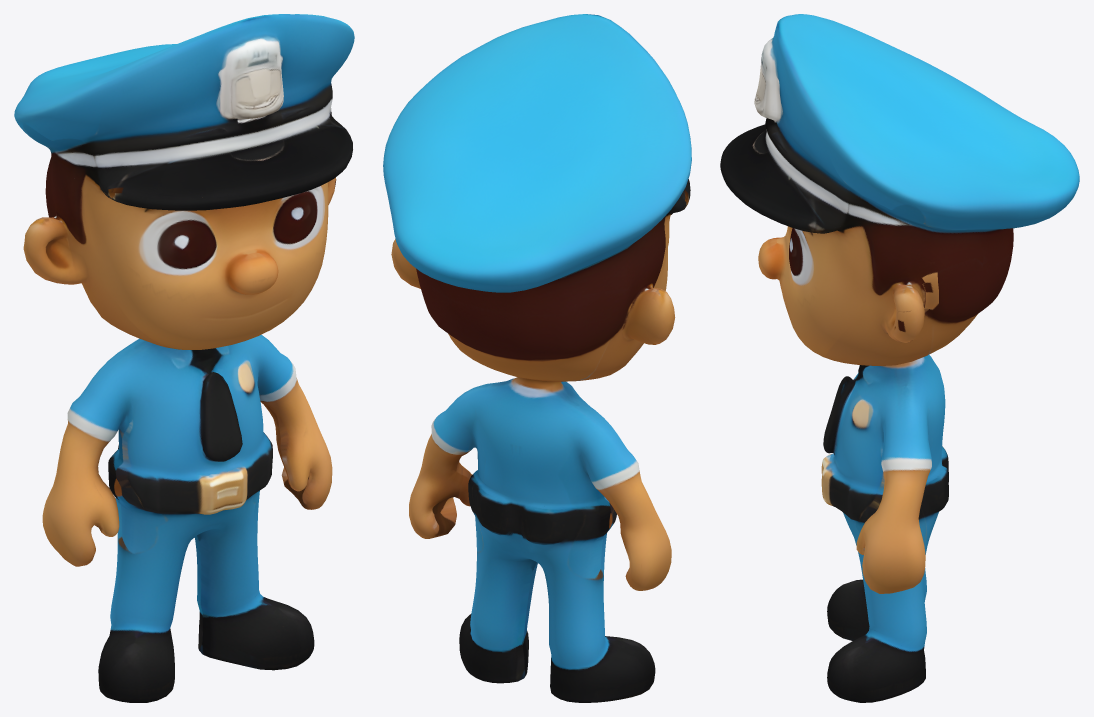
The model's file is base_basic_shaded.glb.
The picture shows the model from 3 angles, left to right: view 1: azimuth 30°, elevation 25°; view 2: azimuth 150°, elevation 25°; view 3: azimuth 270°, elevation 25°; orthographic projection. The views are drawn at different scales.
Visible parts, largest first — view 1: model; view 2: model; view 3: model.
Boxes of the visible parts, <box> form: model: <box>14,14,354,702</box>; model: <box>383,14,691,702</box>; model: <box>720,14,1079,702</box>.
Size of the model in its own units: 0.9051 by 1.9 by 0.9746.
1 material, 1 textured.
